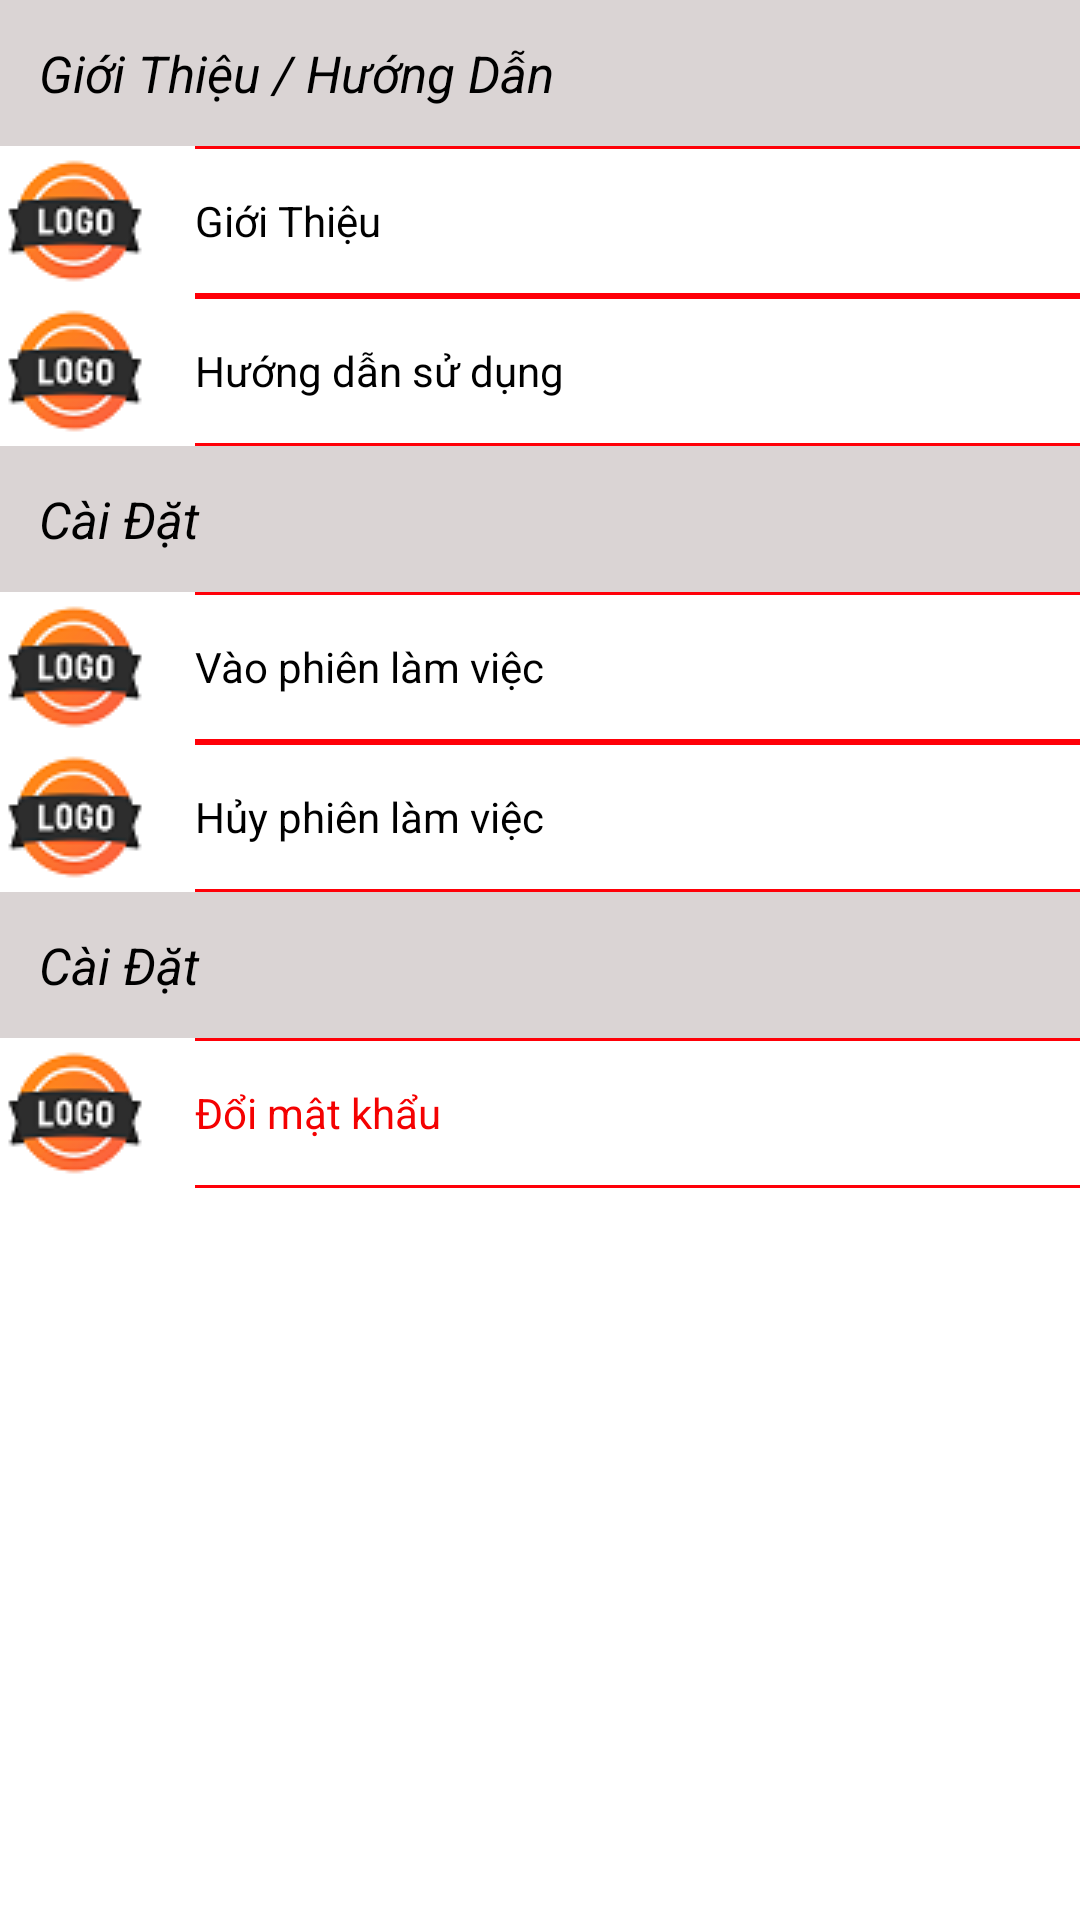

Icons on this 1080w x 1920h Android screen, each with the point to tap as (x,y):
images: (75,221), (75,371), (75,667), (75,817), (75,1113)
